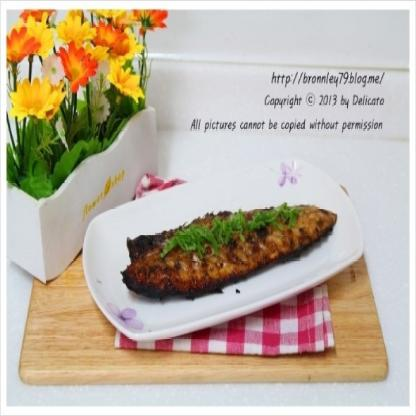Peixe: (117, 186, 345, 306)
